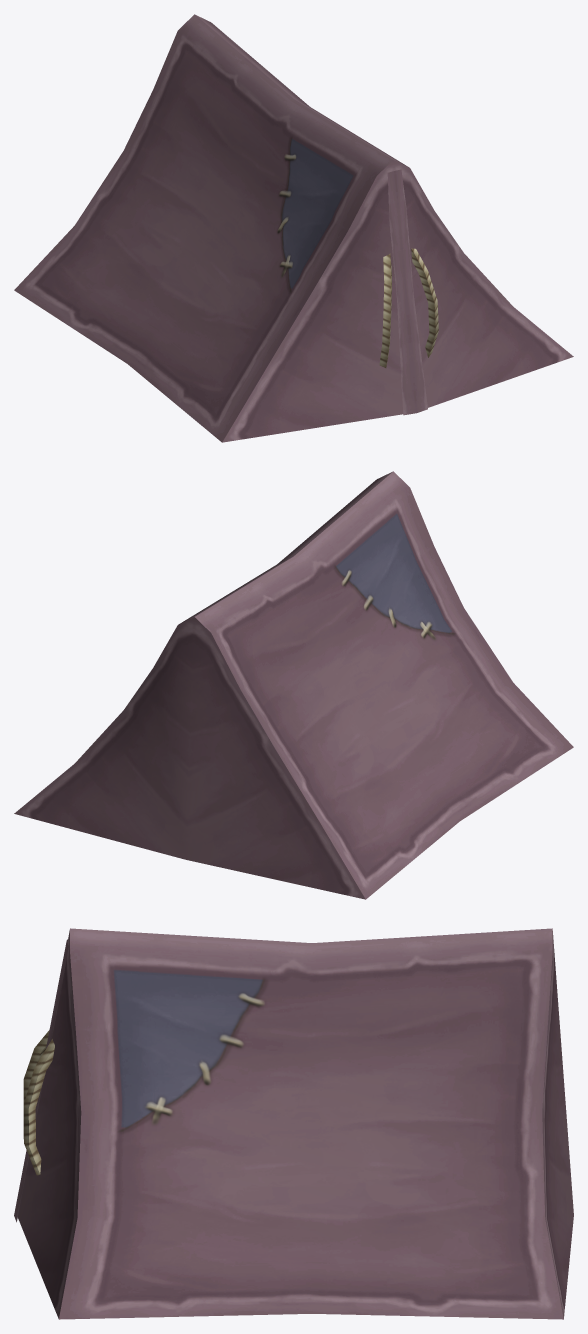
File: tent_purple_04.fbx
3 views of the same model, one above another, from view 1: azimuth 30°, elevation 25°; view 2: azimuth 150°, elevation 25°; view 3: azimuth 270°, elevation 25° (orthographic). The views are drawn at different scales.
Parts seen in each view (by area): view 1: tent_purple_04:Mesh; view 2: tent_purple_04:Mesh; view 3: tent_purple_04:Mesh.
Boxes of the visible parts, box(x1,y1,x2,y2) form: tent_purple_04:Mesh: box(14, 14, 573, 442); tent_purple_04:Mesh: box(14, 471, 573, 899); tent_purple_04:Mesh: box(14, 928, 573, 1319).
Size of the model in its own units: 3.83 by 2.46 by 4.35.
